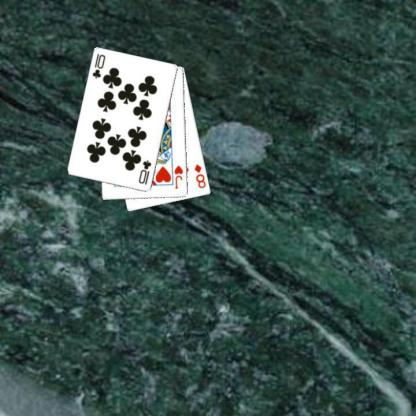10C: (89, 51, 107, 80), (136, 158, 152, 186)
8D: (192, 162, 207, 189)
JH: (172, 163, 184, 190)
